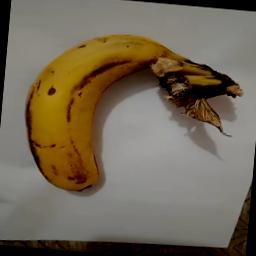Banana Unripe: (11, 16, 250, 206)
